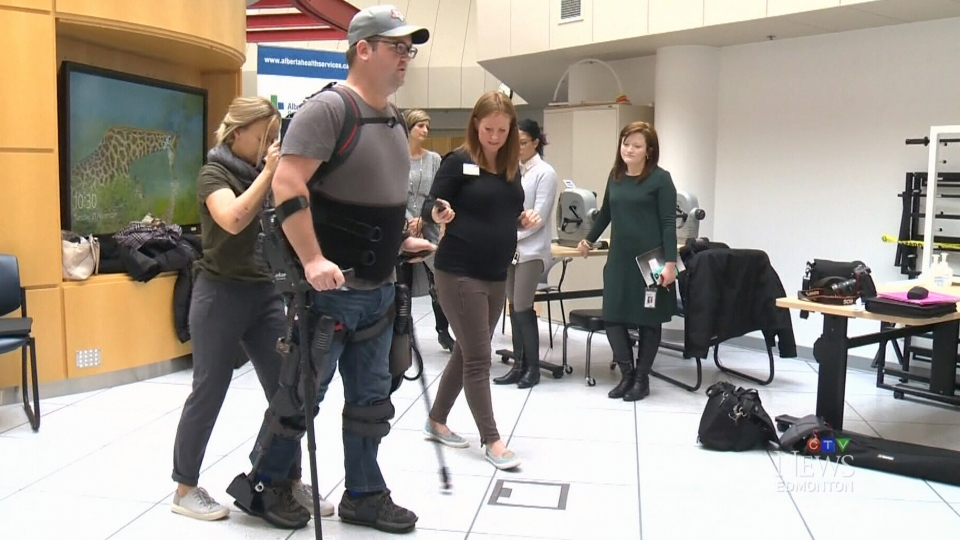feet: (232, 458, 424, 535), (147, 457, 335, 522), (418, 399, 525, 474), (609, 362, 653, 413), (491, 351, 548, 387)
